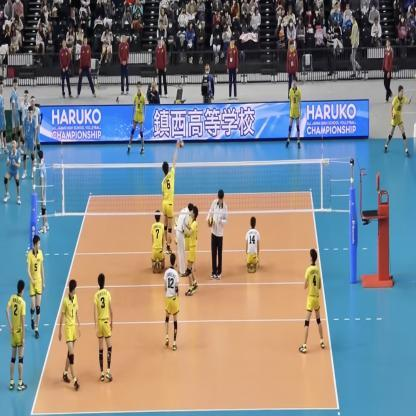spike: (159, 133, 187, 258)
